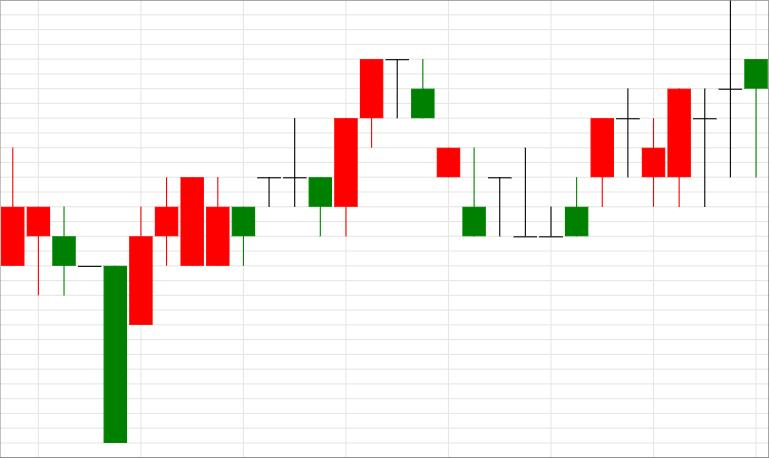hanging_man_fall: (642, 0, 768, 209)
inverse_hammer_rise: (386, 59, 486, 236)
